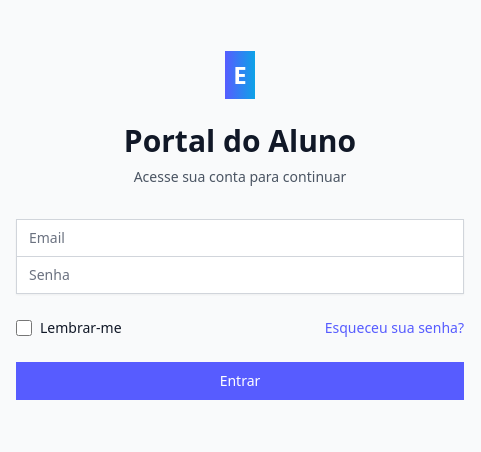
it: LoginPage › displays error message on login failure
The image size is (481, 452).
Type "test@example.com" into the field labelled "Email" at (240, 238), box [16, 218, 464, 256]
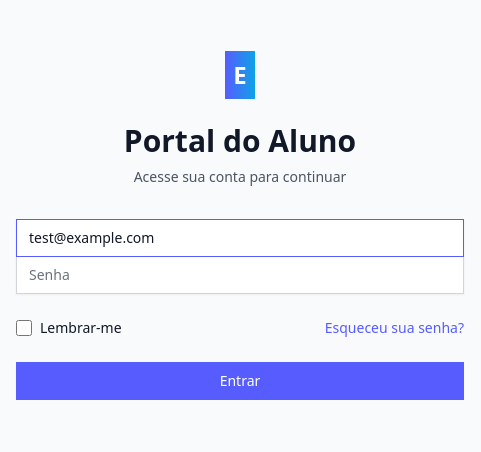
Type "wrong-password" into the password field labelled "Senha" at (240, 274), box [16, 256, 464, 294]
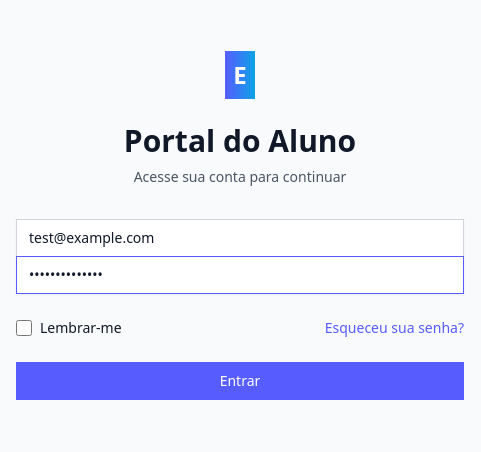
Click the button "Entrar" at (240, 380), box [16, 362, 464, 400]
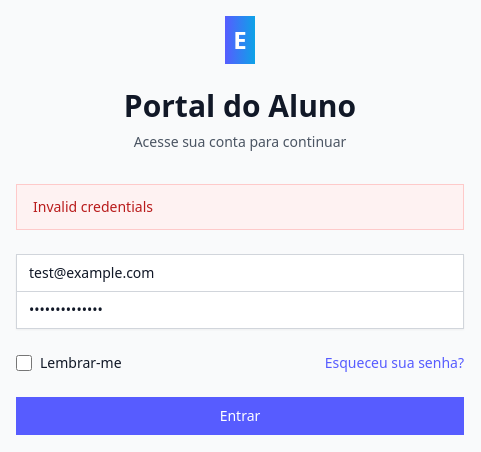
Expected: the text "Invalid credentials" is shown, [16, 184, 464, 230]
